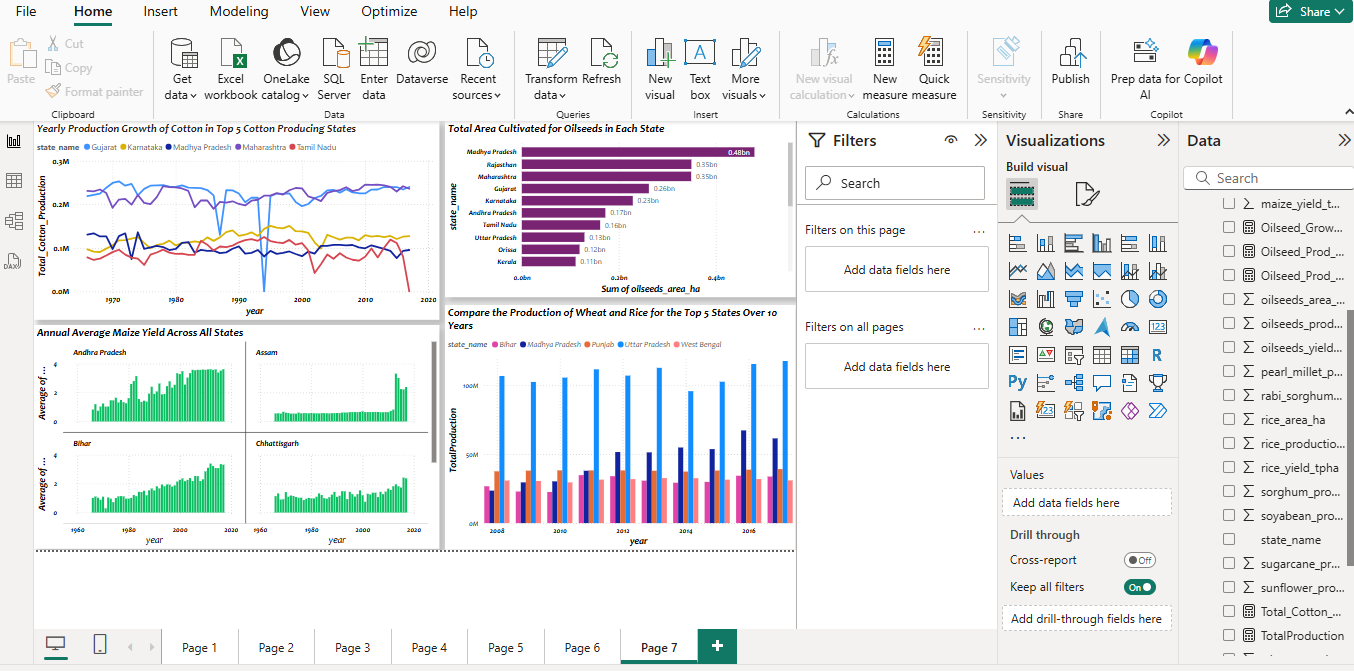

This screenshot's page, from the dashboard's own definition file:
{"tool":"powerbi","page":{"name":"Page 7","canvas":[1280,720],"ordinal":6},"visuals":[{"type":"lineChart","title":"Yearly Production Growth of Cotton in Top 5 Cotton Producing States","fields":{"Category":["agriculture_data crop_production.year"],"Y":["agriculture_data crop_production.Total_Cotton_Production"],"Series":["agriculture_data crop_production.state_name"]},"box":[0,0,681.3,333.9],"z":0},{"type":"clusteredColumnChart","title":"Annual Average Maize Yield Across All States","fields":{"Category":["agriculture_data crop_production.year"],"Y":["Avg(agriculture_data crop_production.maize_yield_tpha)"],"Rows":["agriculture_data crop_production.state_name"]},"box":[0,343.5,681.3,376.1],"z":1000},{"type":"clusteredBarChart","title":"Total Area Cultivated for Oilseeds in Each State","fields":{"Category":["agriculture_data crop_production.state_name"],"Y":["Sum(agriculture_data crop_production.oilseeds_area_ha)"]},"box":[690.9,0,589.1,295.5],"z":2000},{"type":"clusteredColumnChart","title":"Compare the Production of Wheat and Rice for the Top 5 States Over 10 Years","fields":{"Category":["agriculture_data crop_production.year"],"Series":["agriculture_data crop_production.state_name"],"Y":["agriculture_data crop_production.TotalProduction"]},"box":[690.9,309,589.1,410.7],"z":2001}]}

Visuals, with their boxes on the page's 1280x720 design canvas (x1, y1, x2, y2). These are canvas units, not pixel positions in the 1354x671 screenshot, which may show the page scaled, cropped or inside an application window:
"Yearly Production Growth of Cotton in Top 5 Cotton Producing States" lineChart: [x1=0, y1=0, x2=681, y2=334]
"Annual Average Maize Yield Across All States" clusteredColumnChart: [x1=0, y1=344, x2=681, y2=720]
"Total Area Cultivated for Oilseeds in Each State" clusteredBarChart: [x1=691, y1=0, x2=1280, y2=296]
"Compare the Production of Wheat and Rice for the Top 5 States Over 10 Years" clusteredColumnChart: [x1=691, y1=309, x2=1280, y2=720]
